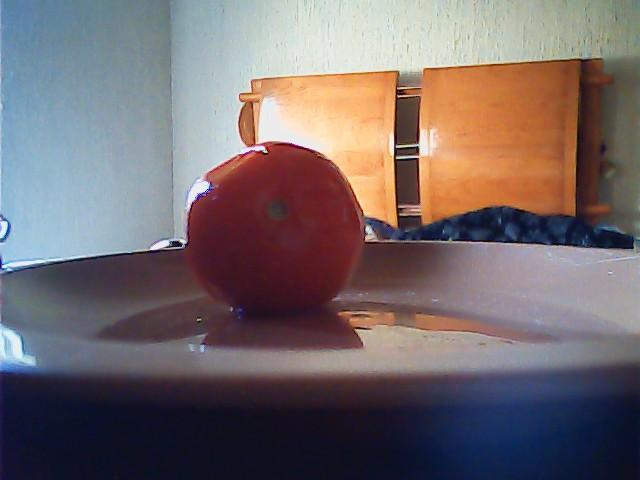maduro: (179, 140, 366, 320)
